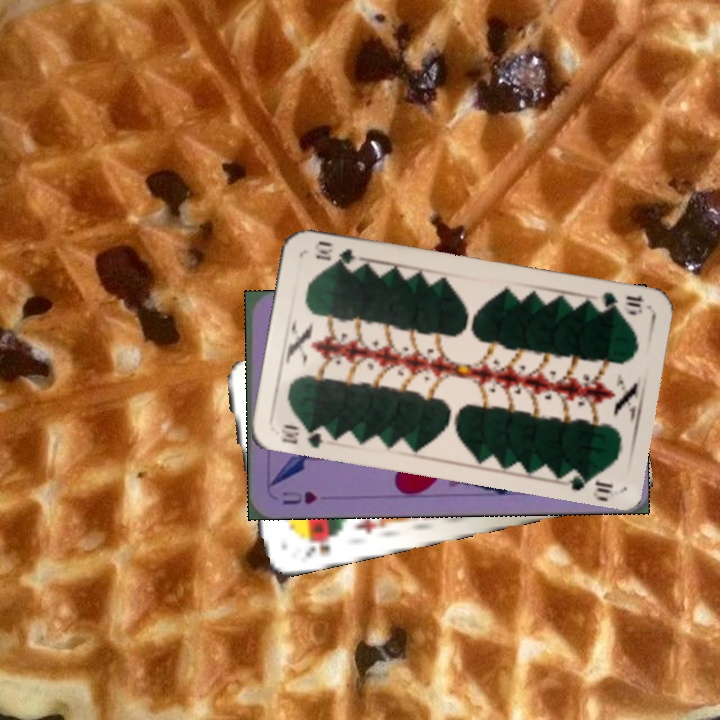G10: (276, 420, 333, 451), (598, 287, 646, 317)
HU: (278, 487, 320, 507)
SK: (300, 530, 342, 560)
